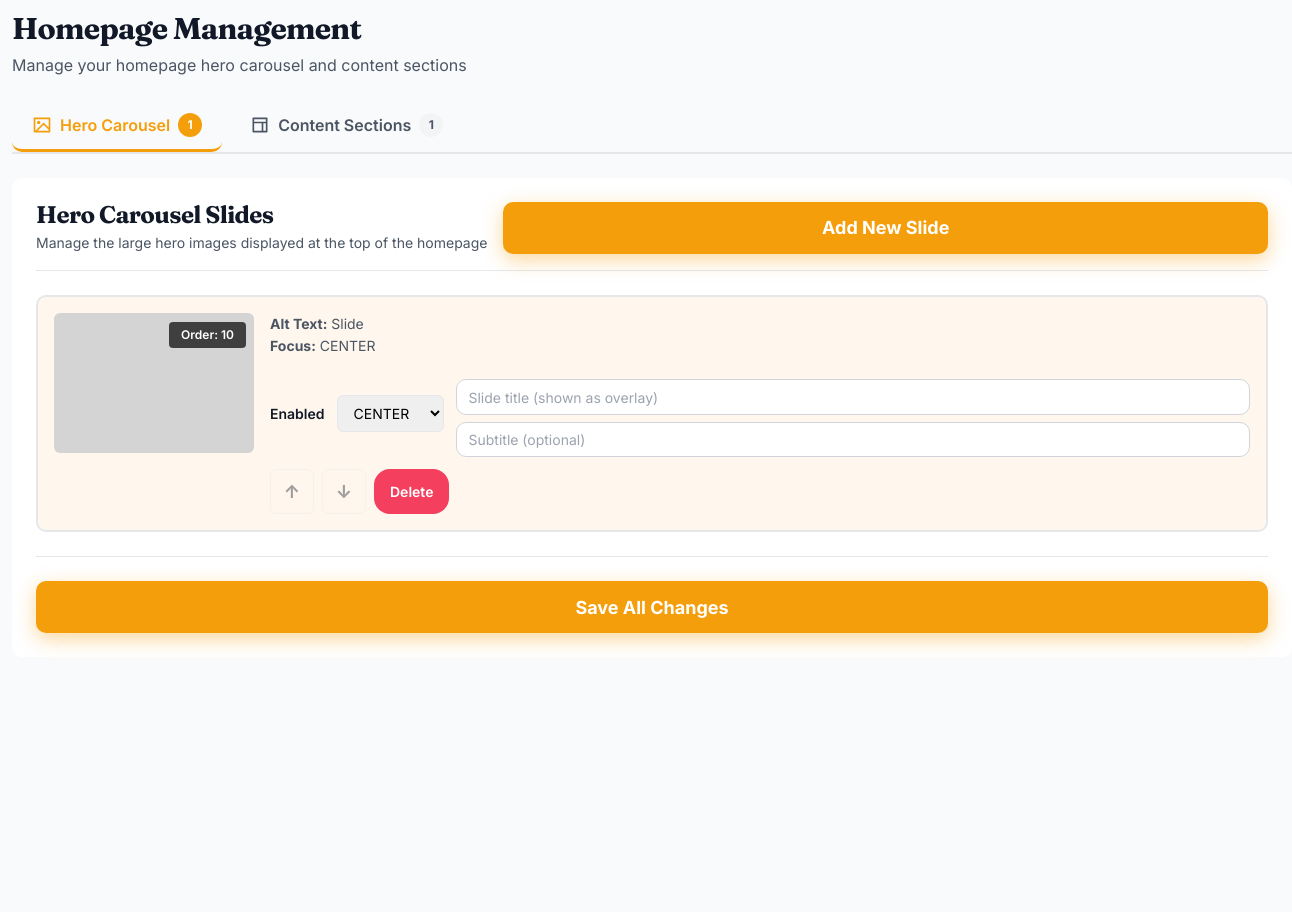
it: AdminHomepage › toggles slide enabled state via checkbox
Click the checkbox: {"x": 297, "y": 414} top-left (270, 403), bottom-right (324, 424)
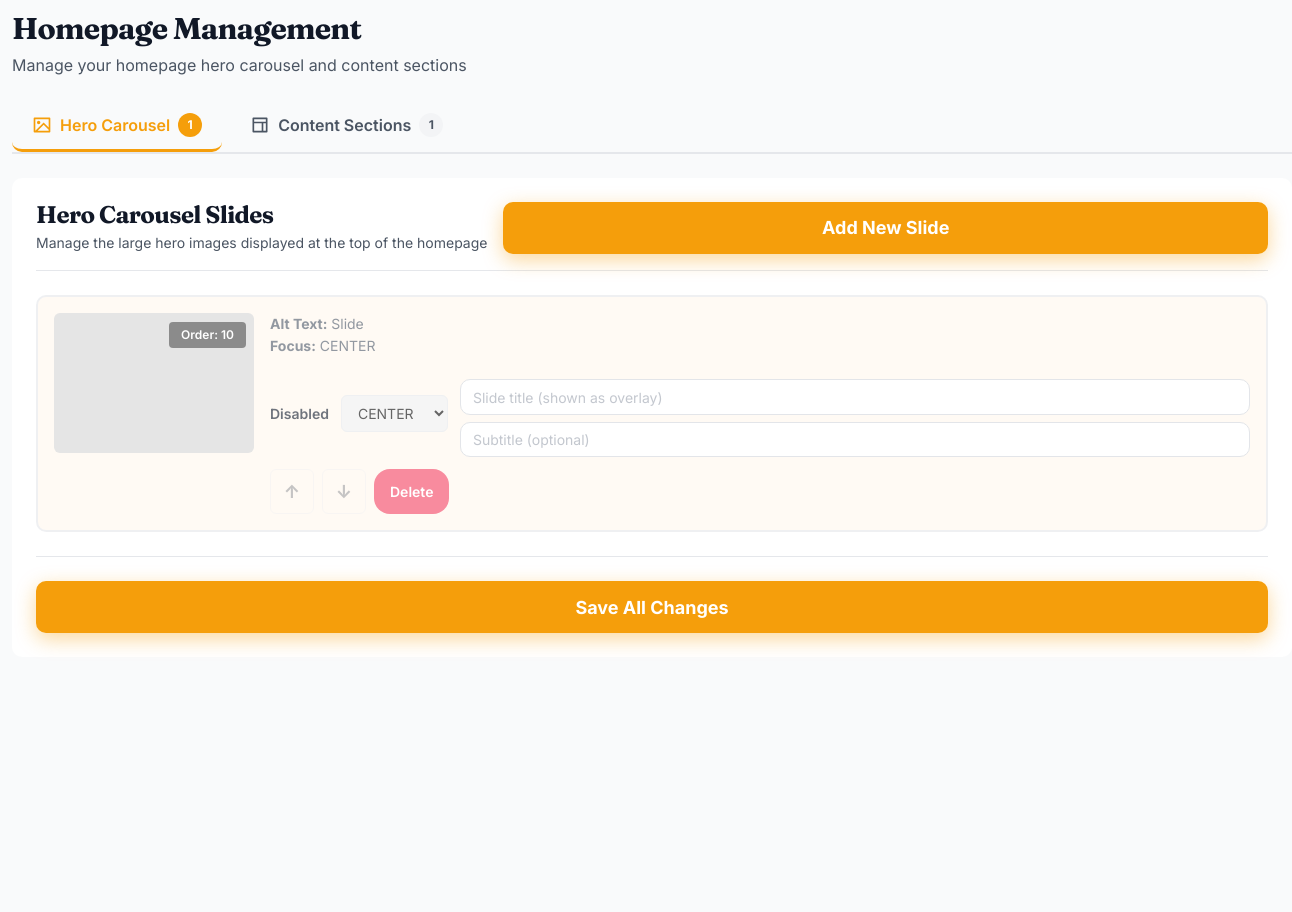
Check: the text "Disabled" is shown, box top-left (270, 403), bottom-right (329, 424)
